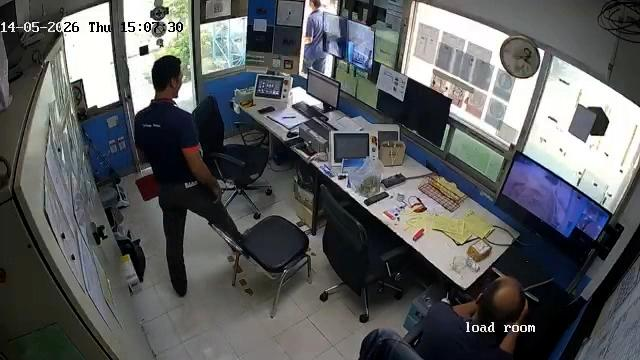Head: (476, 274, 525, 325), (152, 53, 184, 103)
People: (136, 53, 244, 300), (421, 273, 526, 360)
Phone: (257, 105, 276, 115)
